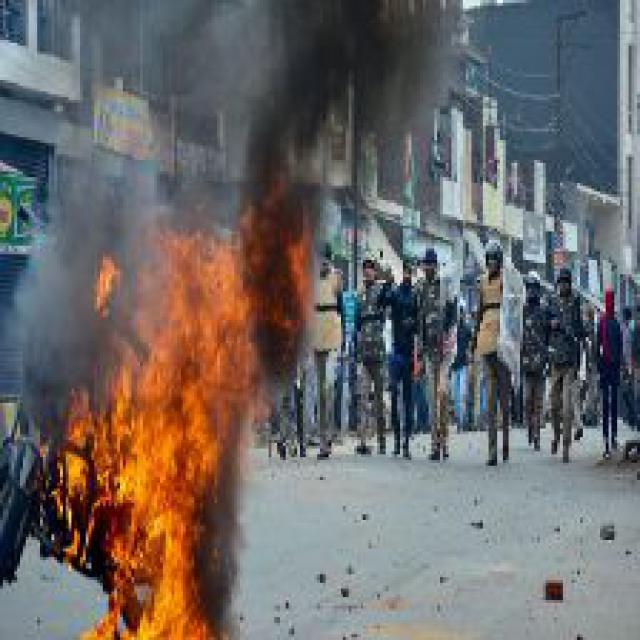fire: (46, 169, 331, 637)
